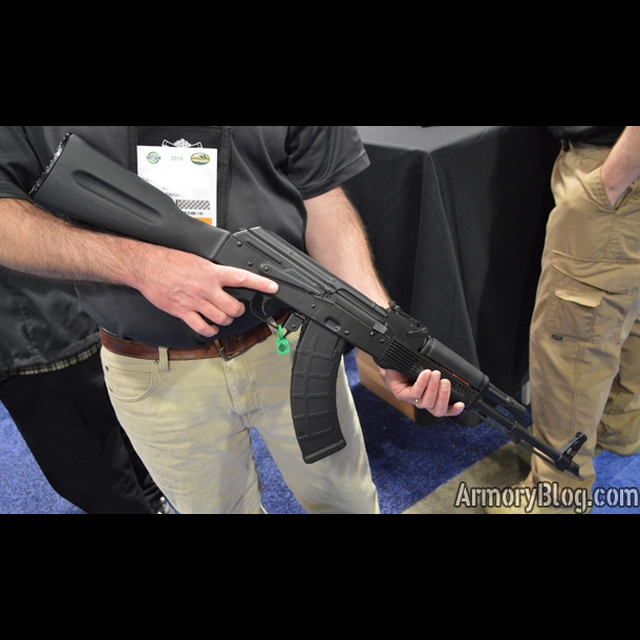AK47: (217, 210, 583, 477)
